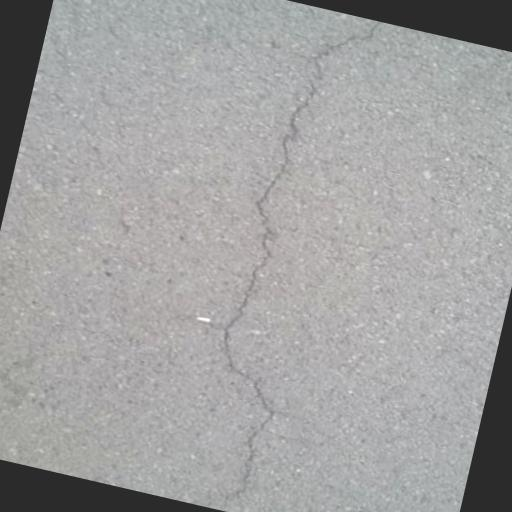spalling: (212, 15, 394, 512)
